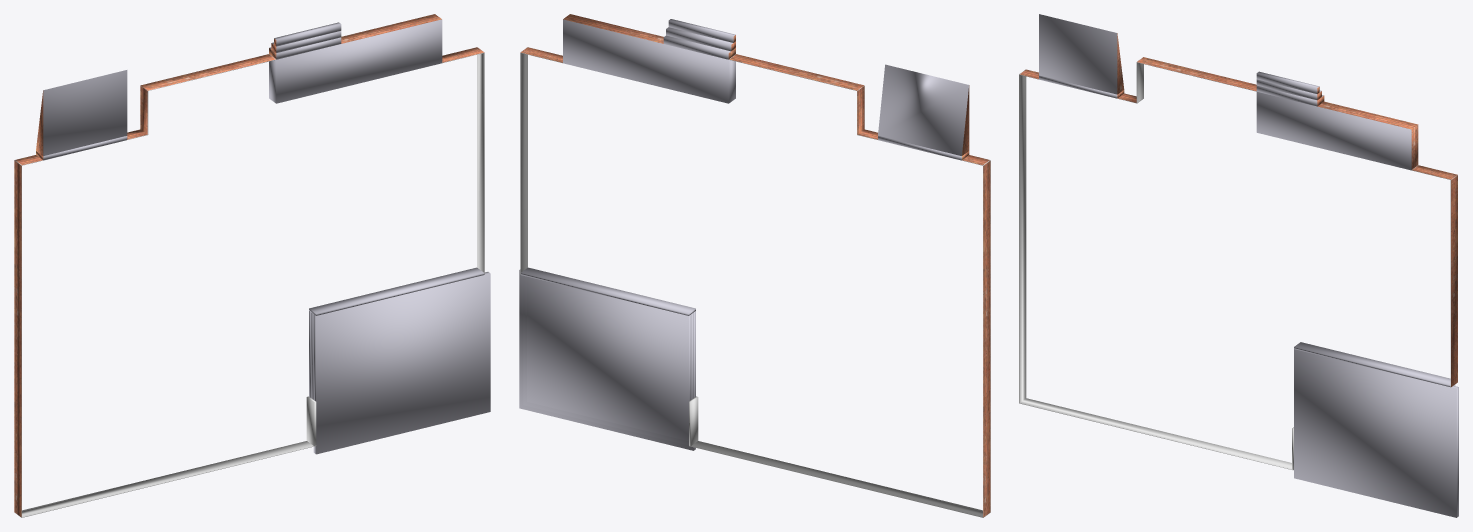
The model's file is basement_tex_v1.fbx.
3 views of the same model, side by side, from view 1: azimuth 30°, elevation 25°; view 2: azimuth 150°, elevation 25°; view 3: azimuth 330°, elevation 25° (orthographic). The views are drawn at different scales.
Parts seen in each view (by area): view 1: Cube.001; view 2: Cube.001; view 3: Cube.001.
Boxes of the visible parts, <box> form: Cube.001: <box>14,14,490,517</box>; Cube.001: <box>519,14,990,517</box>; Cube.001: <box>1019,14,1458,517</box>.
Bounding box in the file's own units: 0.1116 × 0.098 × 0.003.
